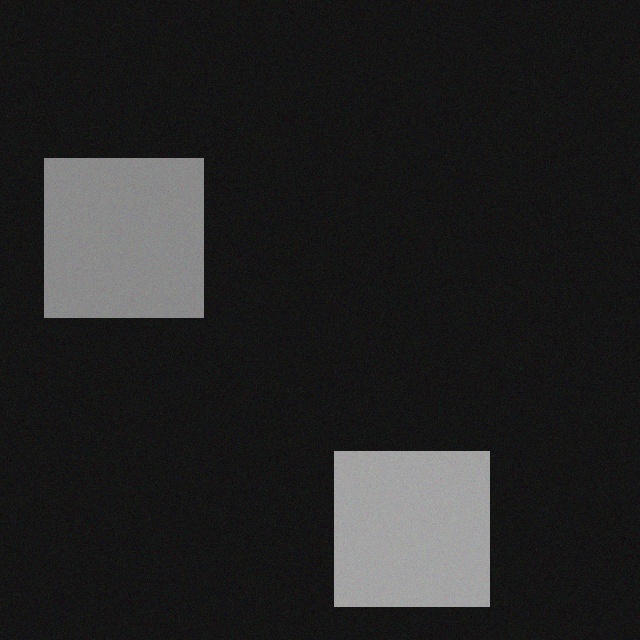square: (56, 166, 215, 325), (346, 459, 501, 614)
